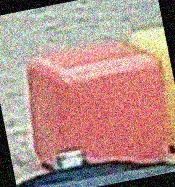orange_cube: (24, 44, 167, 159)
